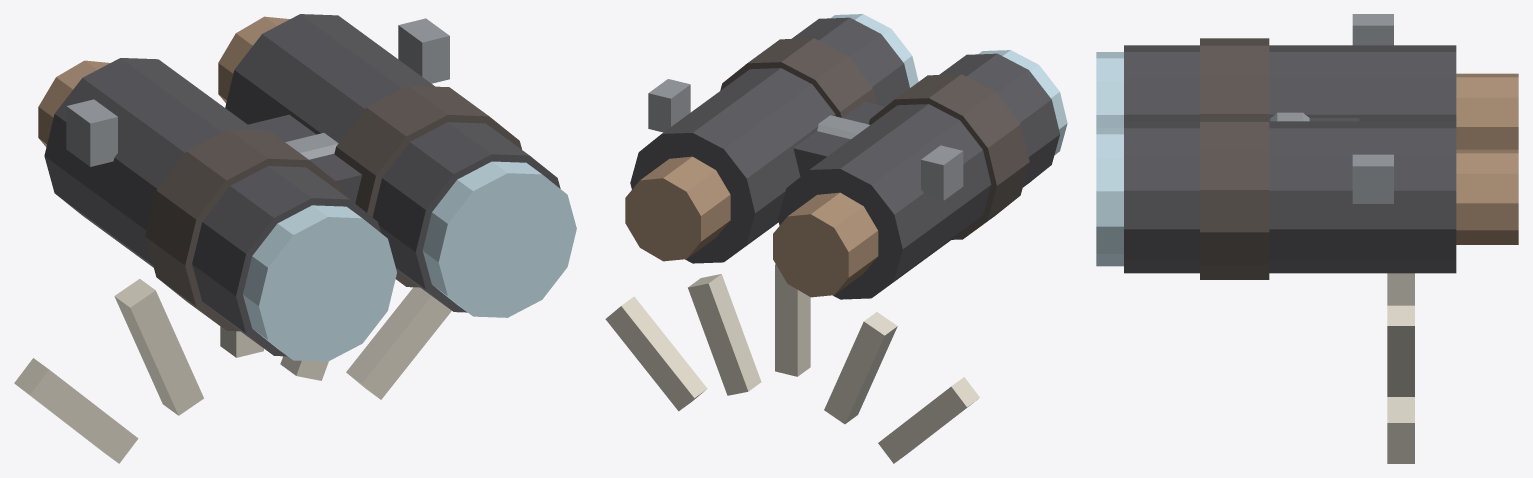
File: binoculars.glb
The picture shows the model from 3 angles, left to right: view 1: azimuth 30°, elevation 25°; view 2: azimuth 150°, elevation 25°; view 3: azimuth 270°, elevation 25°; orthographic projection. The views are drawn at different scales.
Parts seen in each view (by area): view 1: binoculars; view 2: binoculars; view 3: binoculars.
Boxes of the visible parts, <box> form: binoculars: <box>14,14,576,463</box>; binoculars: <box>605,14,1067,463</box>; binoculars: <box>1096,14,1518,463</box>.
Bounding box in the file's own units: 0.3185 × 0.2585 × 0.305.
